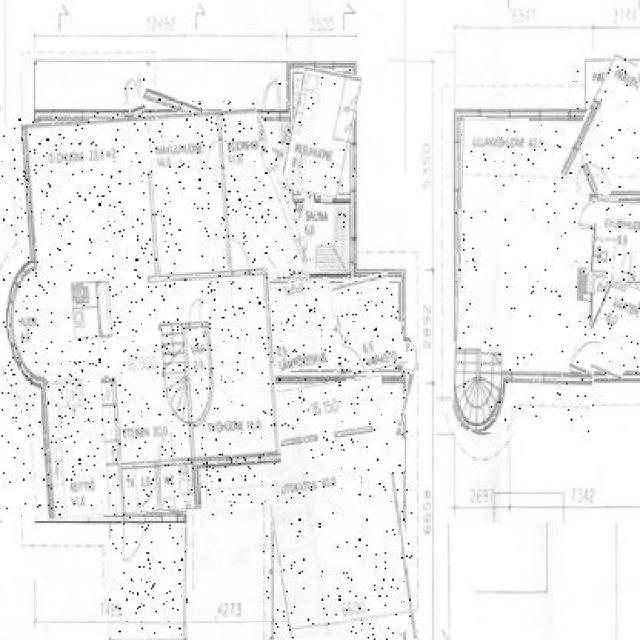door: (2, 112, 276, 517), (455, 118, 600, 434), (262, 378, 411, 640), (222, 119, 302, 278), (571, 57, 640, 192), (286, 70, 357, 196), (109, 525, 188, 637), (266, 280, 340, 371), (337, 275, 403, 374), (583, 280, 640, 375), (591, 198, 640, 280), (297, 204, 349, 274)
window: (117, 460, 149, 506), (574, 160, 611, 192), (122, 517, 144, 560), (572, 337, 597, 374), (229, 245, 254, 280), (123, 78, 145, 114), (397, 338, 420, 372), (334, 342, 357, 376), (215, 143, 237, 177), (144, 432, 164, 463), (263, 77, 280, 111), (275, 146, 294, 172), (578, 203, 596, 228), (301, 172, 317, 198), (186, 300, 202, 326)
zone: (143, 98, 260, 131), (397, 472, 412, 640), (398, 371, 409, 437)
